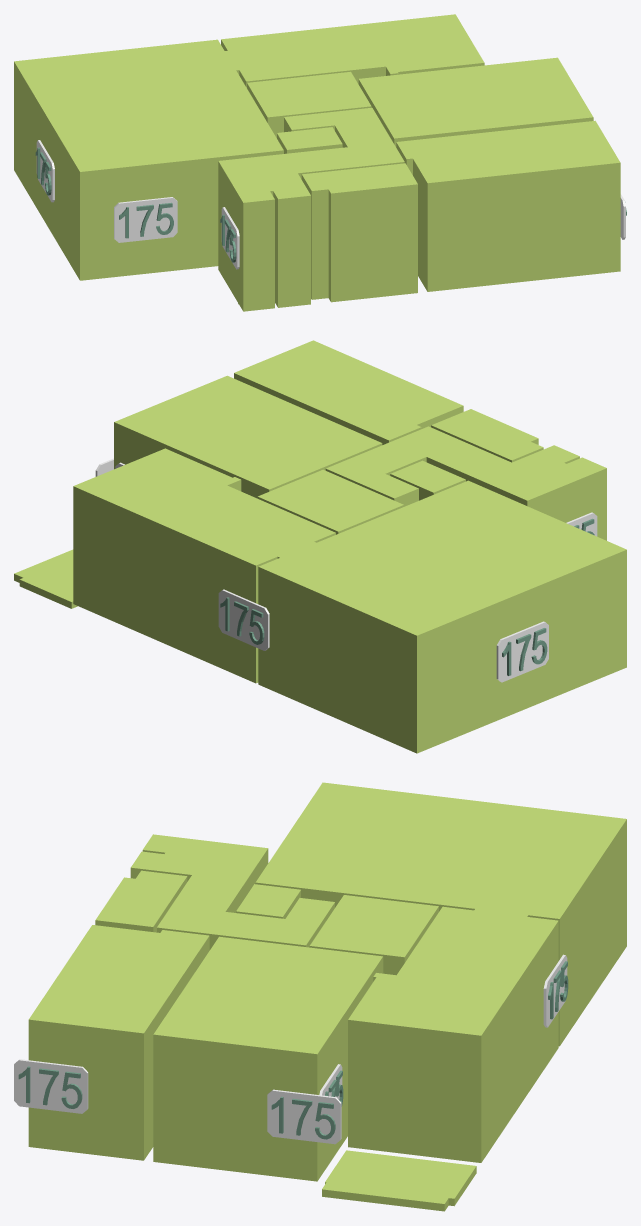
The picture shows the model from 3 angles, top to bottom: view 1: azimuth 30°, elevation 25°; view 2: azimuth 150°, elevation 25°; view 3: azimuth 270°, elevation 25°; orthographic projection. The views are drawn at different scales.
Parts seen in each view (by area): view 1: g_1, g_4, g_7, g_5, g_3, g_0, g_2, g_28, g_6, g_16, g_24; view 2: g_1, g_0, g_3, g_7, g_4, g_2, g_5, g_8, g_36, g_16, g_6; view 3: g_1, g_0, g_3, g_4, g_7, g_8, g_2, g_5, g_32, g_12, g_6, g_36.
Part boxes in pixels (left/top/right/bottom): g_1: left=14, top=39, right=283, bottom=280; g_4: left=396, top=120, right=620, bottom=291; g_7: left=218, top=107, right=404, bottom=311; g_5: left=301, top=163, right=417, bottom=302; g_3: left=358, top=57, right=593, bottom=147; g_0: left=221, top=14, right=484, bottom=87; g_2: left=247, top=71, right=371, bottom=137; g_28: left=114, top=197, right=177, bottom=242; g_6: left=277, top=127, right=342, bottom=153; g_16: left=36, top=140, right=54, bottom=202; g_24: left=221, top=207, right=239, bottom=269; g_1: left=258, top=480, right=626, bottom=753; g_0: left=73, top=448, right=335, bottom=683; g_3: left=114, top=375, right=382, bottom=498; g_7: left=325, top=426, right=606, bottom=540; g_4: left=234, top=340, right=463, bottom=444; g_2: left=257, top=469, right=403, bottom=534; g_5: left=431, top=409, right=543, bottom=462; g_8: left=14, top=549, right=77, bottom=608; g_36: left=218, top=589, right=269, bottom=650; g_16: left=496, top=621, right=548, bottom=682; g_6: left=390, top=460, right=465, bottom=500; g_1: left=255, top=782, right=626, bottom=1046; g_0: left=348, top=906, right=558, bottom=1162; g_3: left=153, top=936, right=383, bottom=1181; g_4: left=28, top=925, right=209, bottom=1160; g_7: left=130, top=834, right=334, bottom=949; g_8: left=322, top=1150, right=476, bottom=1211; g_2: left=309, top=895, right=438, bottom=975; g_5: left=95, top=870, right=187, bottom=932; g_32: left=267, top=1089, right=341, bottom=1144; g_12: left=14, top=1059, right=88, bottom=1113; g_6: left=236, top=884, right=300, bottom=918; g_36: left=543, top=954, right=567, bottom=1027.
Size of the model in its own units: 12.73 by 2.74 by 11.23.
